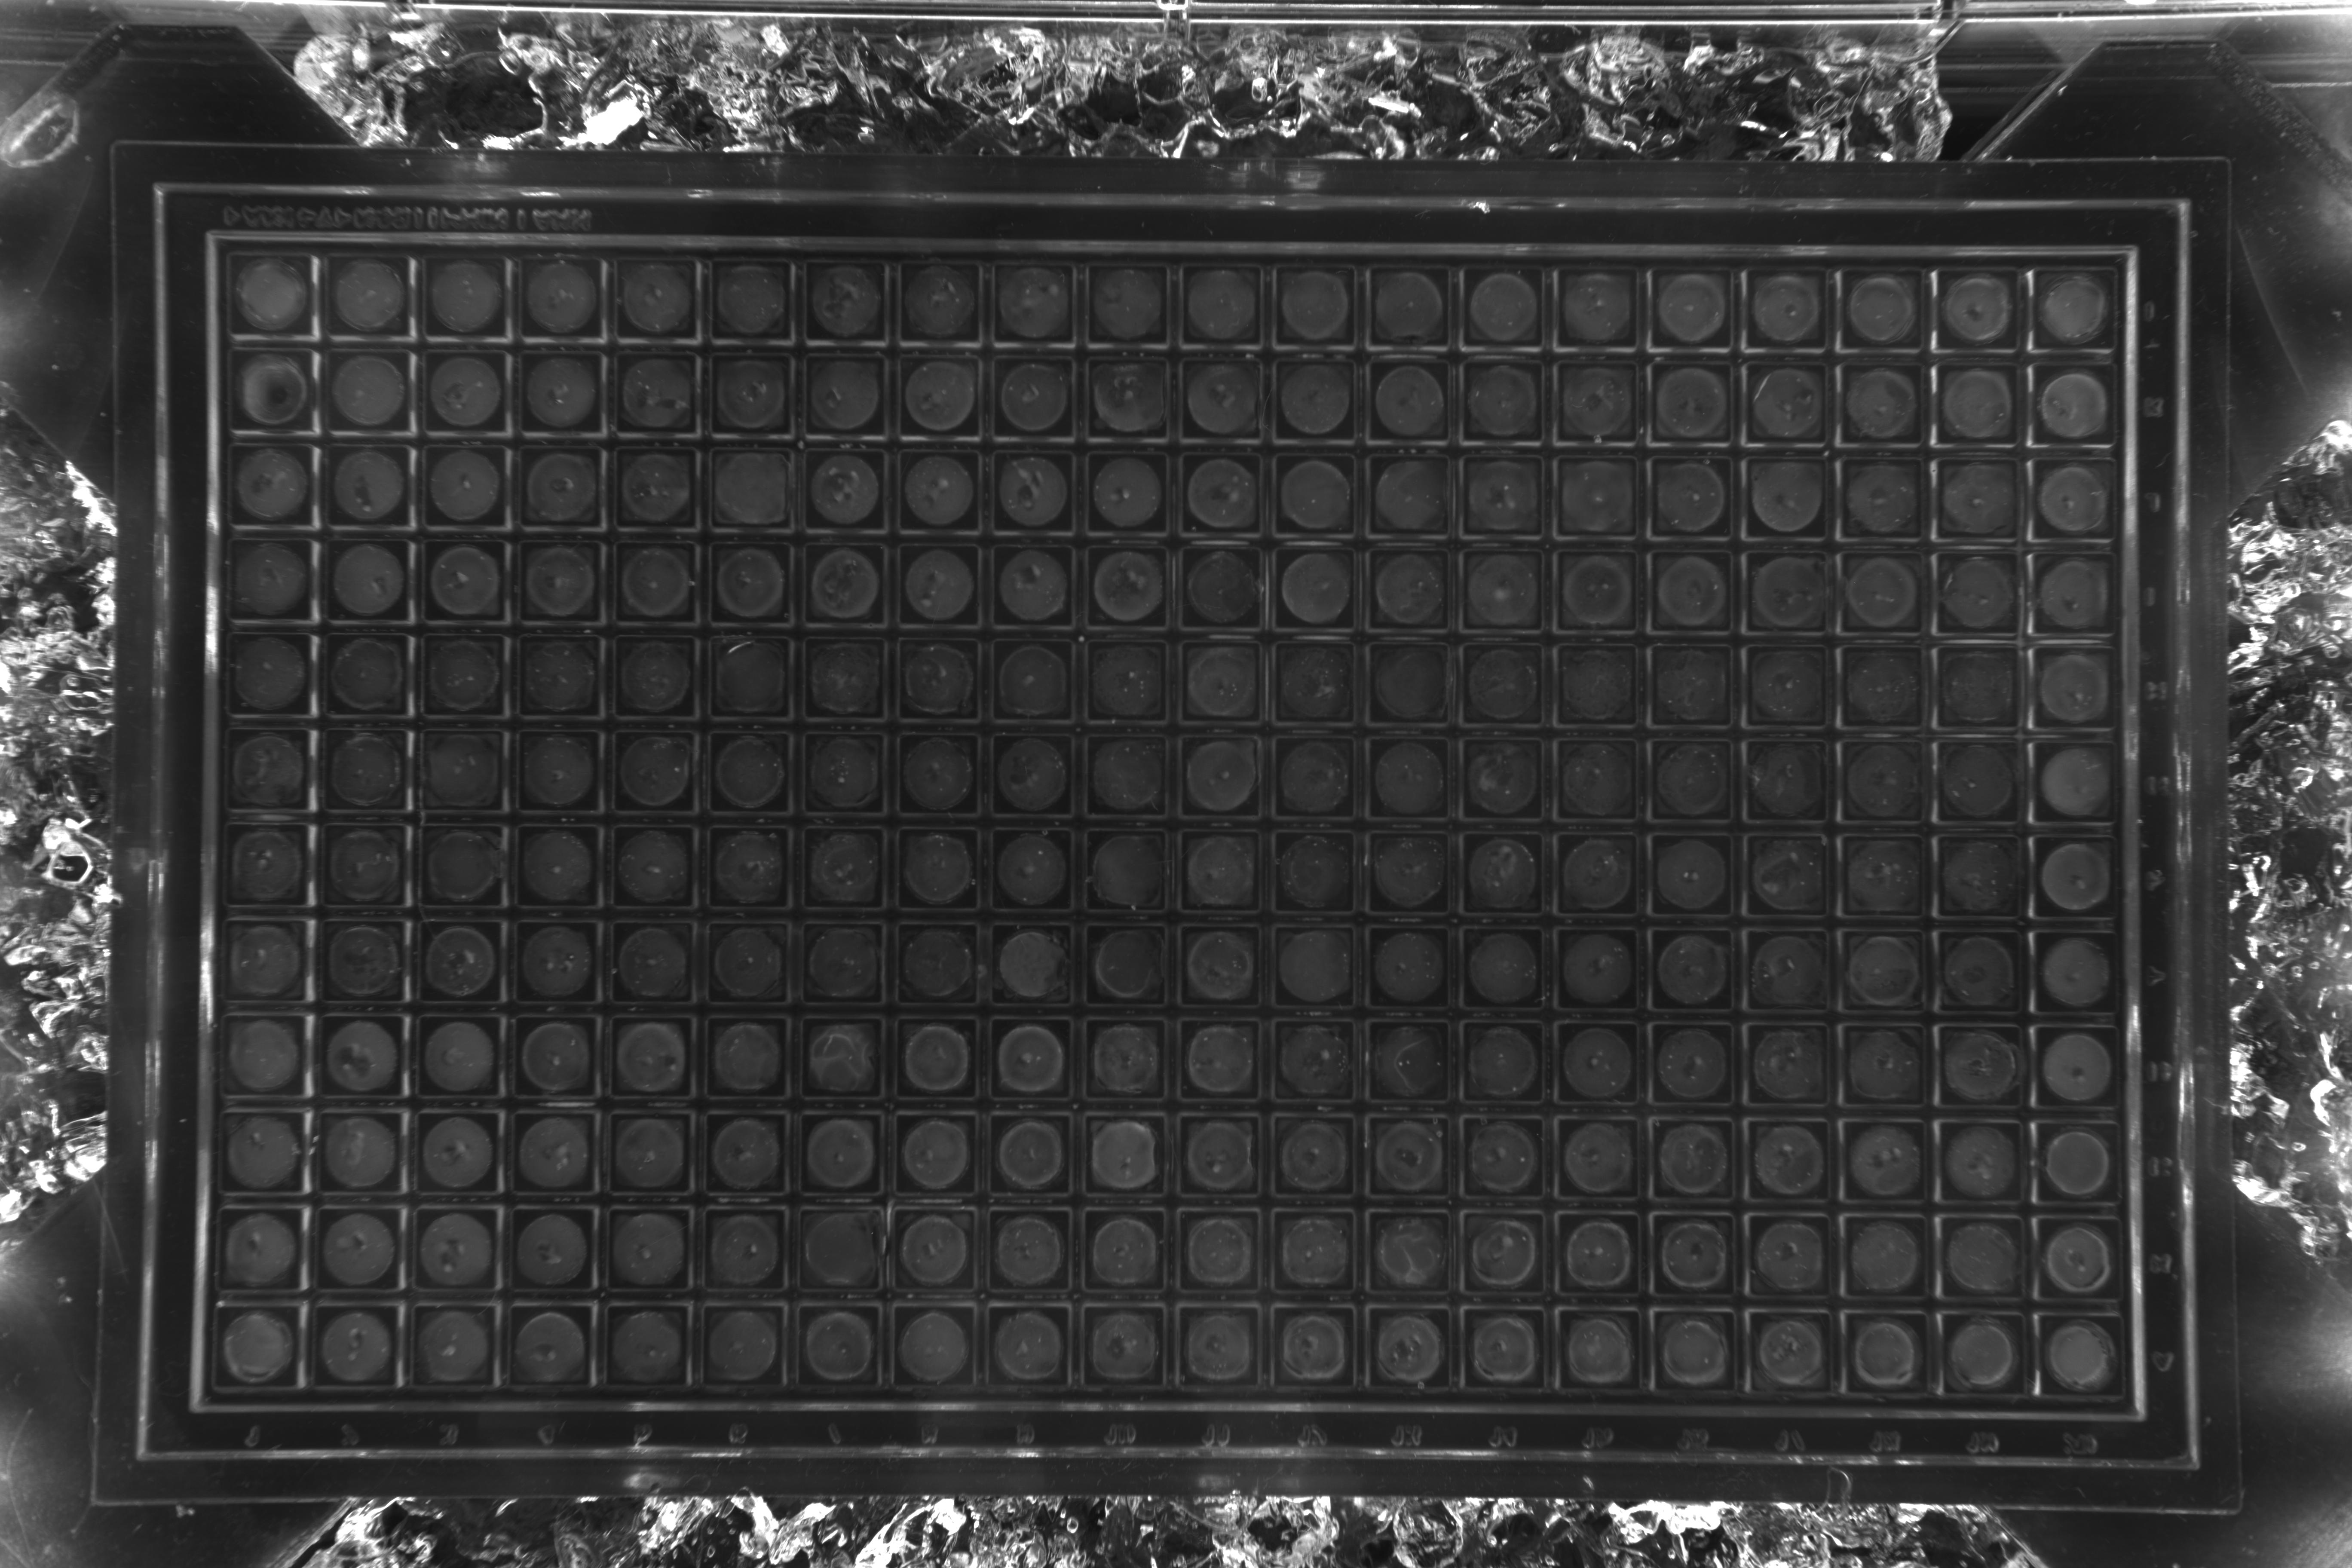WM_well: (497, 266, 586, 353), (290, 1242, 378, 1330), (303, 457, 390, 544), (392, 1143, 479, 1230), (401, 264, 488, 352), (401, 555, 488, 642), (488, 1241, 576, 1328), (499, 458, 586, 546), (787, 947, 875, 1034), (980, 1239, 1067, 1326), (1080, 367, 1167, 455), (1176, 560, 1263, 647), (1176, 1045, 1263, 1132), (1272, 464, 1360, 551), (1272, 656, 1360, 744), (1274, 1143, 1361, 1230), (1465, 269, 1552, 357), (1466, 754, 1554, 842), (1561, 269, 1648, 357), (1661, 464, 1748, 551), (1760, 754, 1848, 842), (1858, 560, 1946, 647), (1865, 1349, 1953, 1437), (1958, 658, 2046, 745)
